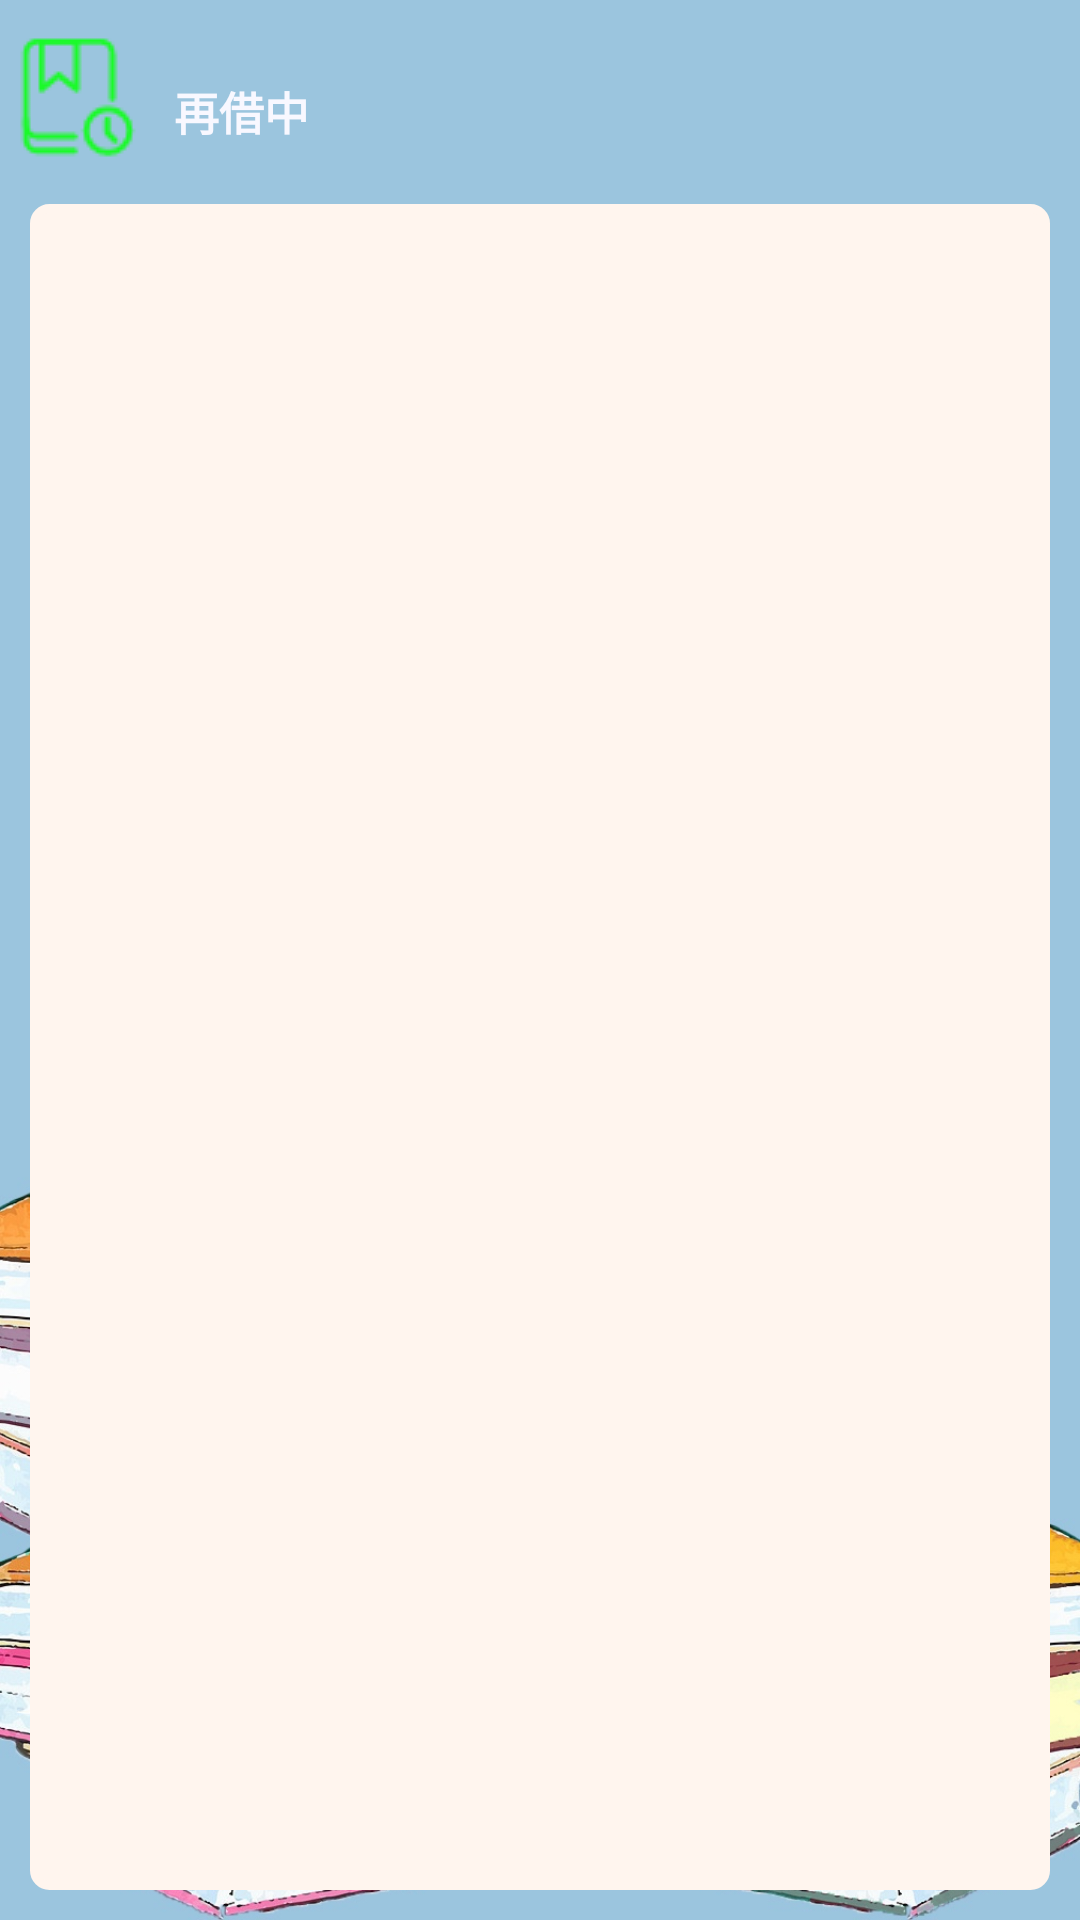

Named icons in this screenshot (1080×1920) and their centers, point (x, y):
zaijie: point (77, 97)
